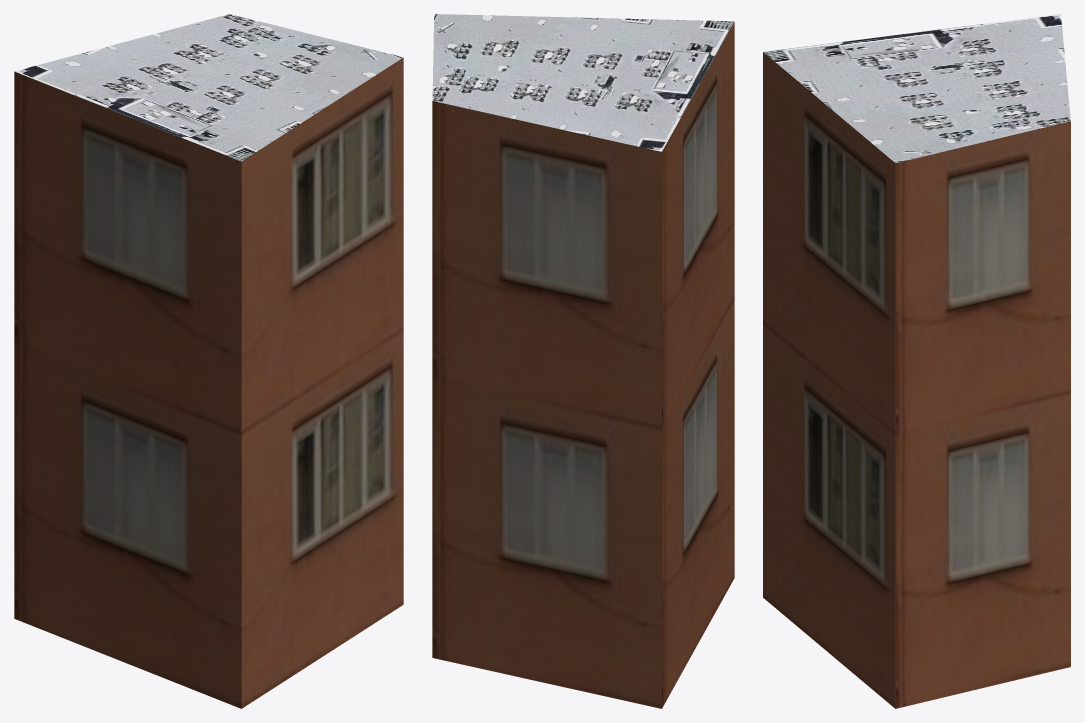
File: ResTex__4782.fbx
3 views of the same model, side by side, from view 1: azimuth 30°, elevation 25°; view 2: azimuth 150°, elevation 25°; view 3: azimuth 270°, elevation 25° (orthographic). The views are drawn at different scales.
Parts seen in each view (by area): view 1: CityEngineMaterial_20_m, CityEngineMaterial_4_m; view 2: CityEngineMaterial_20_m, CityEngineMaterial_4_m; view 3: CityEngineMaterial_20_m, CityEngineMaterial_4_m.
Boxes of the visible parts, left/top/right/bottom form: CityEngineMaterial_20_m: left=14, top=57, right=403, bottom=708; CityEngineMaterial_4_m: left=14, top=14, right=403, bottom=161; CityEngineMaterial_20_m: left=432, top=21, right=734, bottom=708; CityEngineMaterial_4_m: left=432, top=14, right=734, bottom=151; CityEngineMaterial_20_m: left=763, top=52, right=1070, bottom=708; CityEngineMaterial_4_m: left=763, top=14, right=1070, bottom=163.
Bounding box in the file's own units: 3.52 × 6 × 3.07.
Materials: 2 (2 with a texture image).
